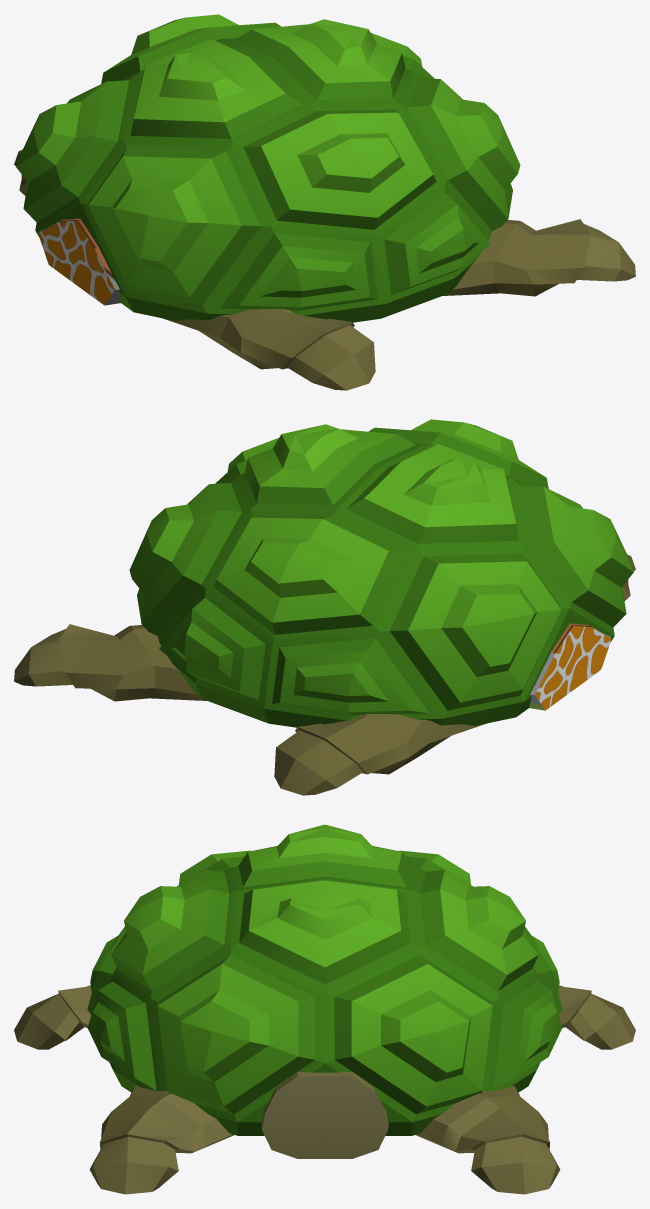
The model's file is SM_Turtle_Body.fbx.
3 renders of one model, top to bottom at view 1: azimuth 30°, elevation 25°; view 2: azimuth 150°, elevation 25°; view 3: azimuth 270°, elevation 25°, orthographic. The views are drawn at different scales.
Visible parts, largest first — view 1: SM_Turtle_Body; view 2: SM_Turtle_Body; view 3: SM_Turtle_Body.
Boxes of the visible parts, bbox=[...] form: SM_Turtle_Body: bbox=[14, 14, 635, 390]; SM_Turtle_Body: bbox=[14, 419, 635, 795]; SM_Turtle_Body: bbox=[14, 824, 635, 1194].
Bounding box in the file's own units: 31.81 × 14.17 × 38.32.
